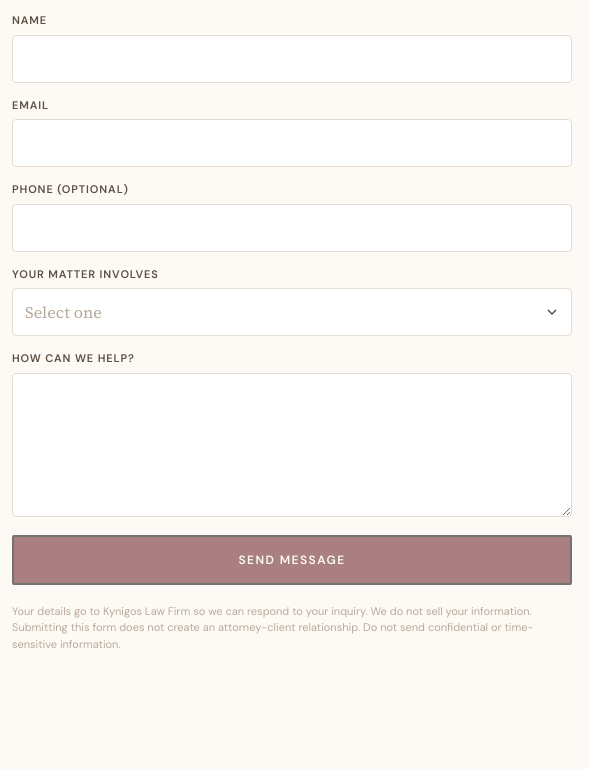
ContactForm › blocks submission and shows the referral note for non-DC matters
The width and height of the screenshot is (589, 769).
Select "Another jurisdiction" in the dropdown labelled "Your matter involves": point(292, 312) [12,288,572,336]
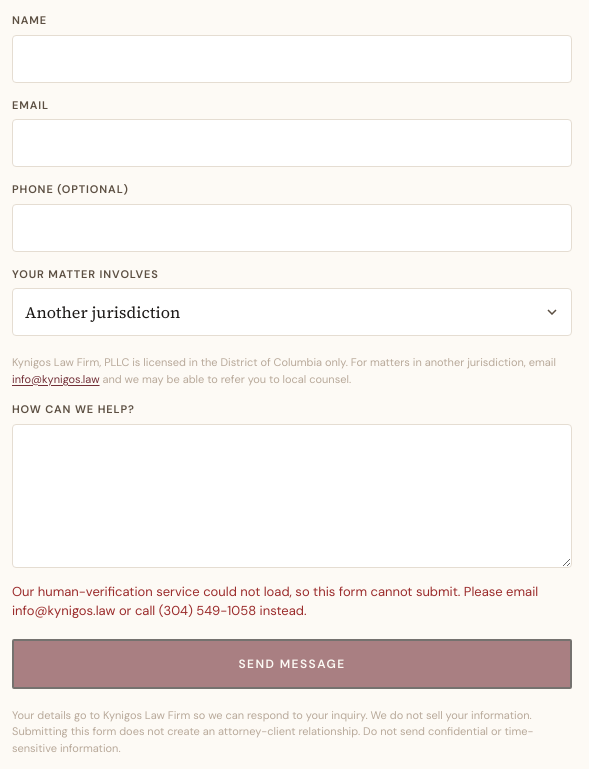
Expected: the button "Send Message" is disabled, [12,638,572,688]
Now the 1st message shows "District of Columbia", box [12,355,556,369]
